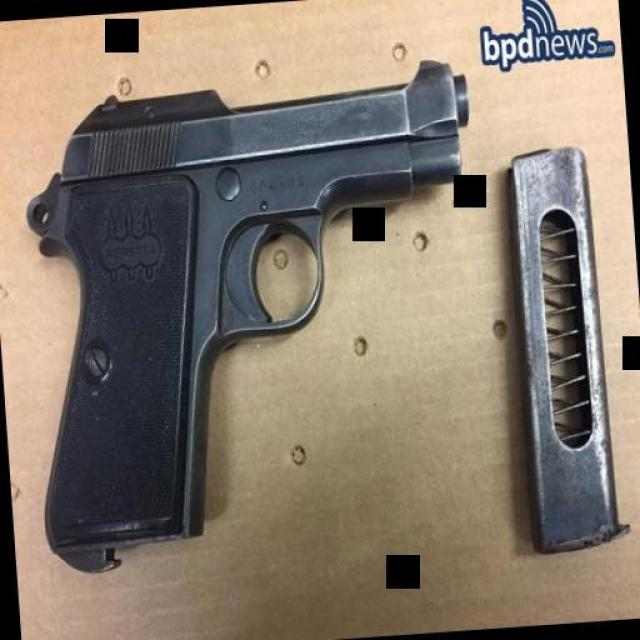gun: (10, 58, 499, 576)
